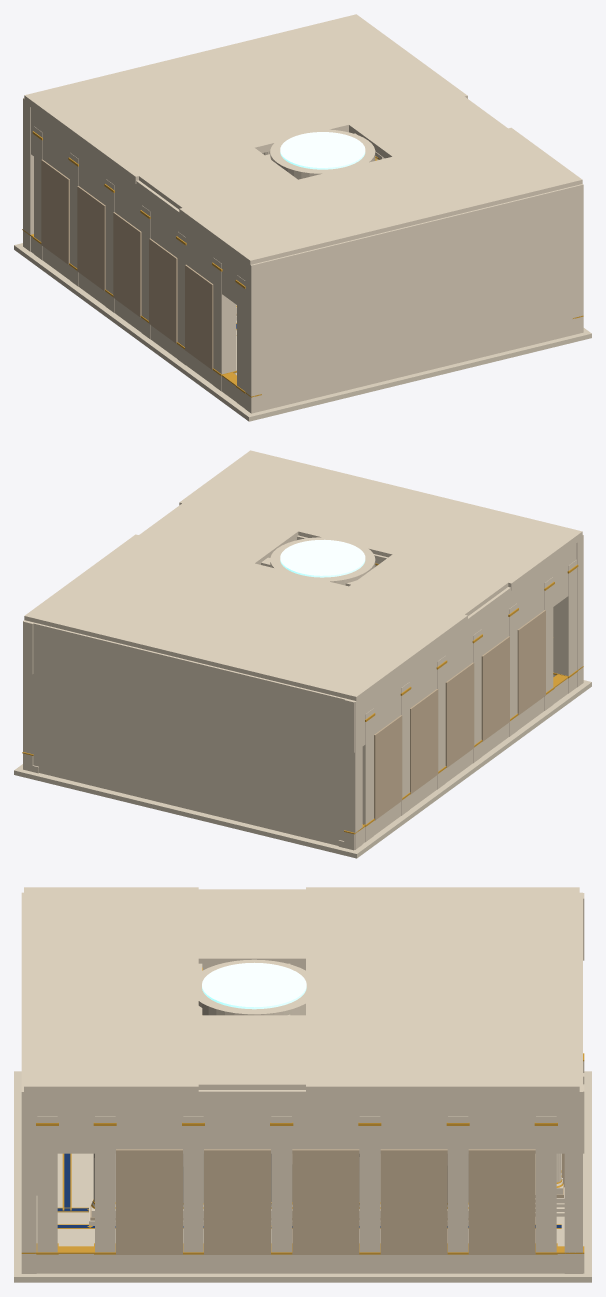
File: temple-interior.glb
3 views of the same model, one above another, from view 1: azimuth 30°, elevation 25°; view 2: azimuth 150°, elevation 25°; view 3: azimuth 270°, elevation 25° (orthographic). The views are drawn at different scales.
Visible parts, largest first — view 1: Dungeon_Marble_Cream, Dungeon_Marble_Dark, Dungeon_Floor_Marble, Dungeon_Skylight_Glass, Dungeon_Gold_Trim; view 2: Dungeon_Marble_Cream, Dungeon_Marble_Dark, Dungeon_Floor_Marble, Dungeon_Skylight_Glass, Dungeon_Gold_Trim; view 3: Dungeon_Marble_Cream, Dungeon_Marble_Dark, Dungeon_Floor_Marble, Dungeon_Skylight_Glass, Dungeon_Gold_Trim, Dungeon_Royal_Blue.
Boxes of the visible parts, x1,y1,x2,y2 form: Dungeon_Marble_Cream: [23, 14, 583, 413]; Dungeon_Marble_Dark: [41, 159, 236, 369]; Dungeon_Floor_Marble: [14, 243, 591, 421]; Dungeon_Skylight_Glass: [280, 132, 365, 169]; Dungeon_Gold_Trim: [22, 131, 583, 397]; Dungeon_Marble_Cream: [23, 450, 583, 850]; Dungeon_Marble_Dark: [374, 610, 545, 820]; Dungeon_Floor_Marble: [14, 680, 591, 858]; Dungeon_Skylight_Glass: [280, 539, 365, 577]; Dungeon_Gold_Trim: [22, 563, 583, 834]; Dungeon_Marble_Cream: [21, 887, 584, 1273]; Dungeon_Marble_Dark: [90, 1149, 564, 1254]; Dungeon_Floor_Marble: [14, 1071, 591, 1282]; Dungeon_Skylight_Glass: [202, 962, 306, 1009]; Dungeon_Gold_Trim: [21, 967, 584, 1254]; Dungeon_Royal_Blue: [57, 1153, 561, 1227].
Size of the model in its own units: 32 by 14.12 by 38.
